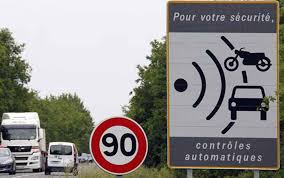Speed_limit_90km: (89, 117, 150, 174)
